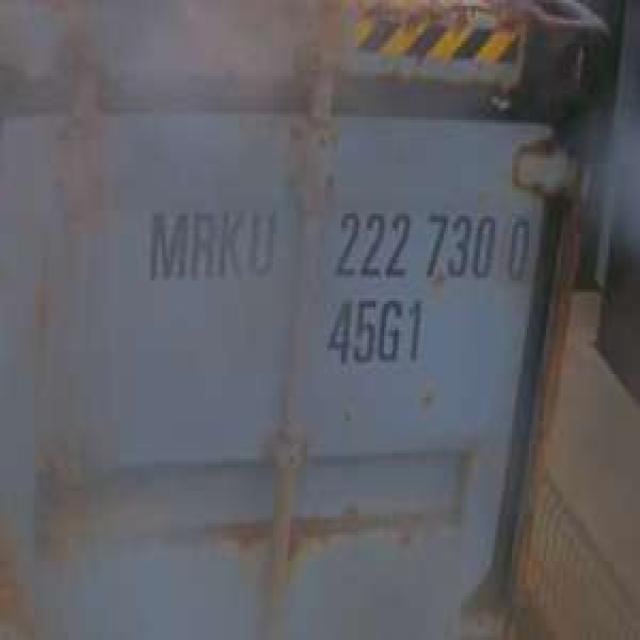dv: (501, 210, 538, 290)
owner: (144, 195, 283, 292)
serial: (328, 195, 497, 286)
size: (321, 292, 434, 373)
